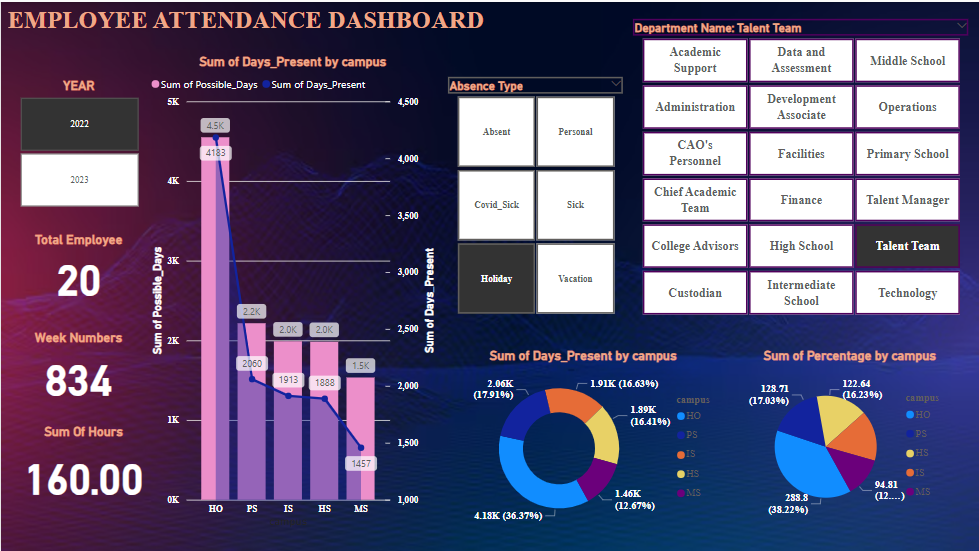

What the dashboard file says about the page in this screenshot:
{"tool":"powerbi","page":{"name":"Attendance dashboard","canvas":[1280,720],"ordinal":0},"visuals":[{"type":"textbox","box":[4.1,0,810.7,53.7],"z":0},{"type":"card","title":"Week Numbers","fields":{"Values":["Sum(Attendance Data Aug - Jan.Week Number)"]},"box":[19.3,429.4,163.8,99.1],"z":1000},{"type":"card","title":"Total Employee","fields":{"Values":["CountNonNull(Attendance Data Aug - Jan.Employee ID)"]},"box":[13.8,301.4,174.8,95],"z":2000},{"type":"slicer","title":"DEPARTMENT NAME","fields":{"Values":["Attendance Data Aug - Jan.Department Name"]},"box":[814.8,16.5,465.2,399.1],"z":3000},{"type":"slicer","fields":{"Values":["Attendance Data Aug - Jan.Absence Type"]},"box":[572.6,93.6,254.6,322.1],"z":4000},{"type":"card","title":"Sum Of Hours","fields":{"Values":["Sum(Attendance Data Aug - Jan.Hours)"]},"box":[13.8,551.9,187.2,111.5],"z":5000},{"type":"slicer","title":"YEAR","fields":{"Values":["Attendance Data Aug - Jan.Date - Year"]},"box":[0,99.1,203.7,174.8],"z":6000},{"type":"pieChart","fields":{"Category":["Individual Attendance.campus"],"Y":["Sum(Individual Attendance.Percentage)"]},"box":[970.3,452.8,282.2,239.5],"z":7000},{"type":"donutChart","fields":{"Category":["Individual Attendance.campus"],"Y":["Sum(Individual Attendance.Days_Present)"]},"box":[572.6,452.8,379.9,243.6],"z":8000},{"type":"lineStackedColumnComboChart","title":"Sum of Days_Present by campus","fields":{"Category":["Individual Attendance.campus"],"Y":["Sum(Individual Attendance.Possible_Days)"],"Y2":["Sum(Individual Attendance.Days_Present)"]},"box":[191.3,67.4,381.2,624.9],"z":9000}]}

Visuals, with their boxes in screenshot pixels (x1, y1, x2, y2), scaled from the page's 1280x720 canvas onto the 979x551 screenshot:
textbox: <bbox>3, 0, 623, 41</bbox>
"Week Numbers" card: <bbox>15, 329, 140, 404</bbox>
"Total Employee" card: <bbox>11, 231, 144, 303</bbox>
"DEPARTMENT NAME" slicer: <bbox>623, 13, 978, 318</bbox>
slicer - Attendance Data Aug - Jan.Absence Type: <bbox>438, 72, 633, 318</bbox>
"Sum Of Hours" card: <bbox>11, 422, 154, 508</bbox>
"YEAR" slicer: <bbox>0, 76, 156, 210</bbox>
pieChart - Individual Attendance.campus x Sum(Individual Attendance.Percentage): <bbox>742, 347, 958, 530</bbox>
donutChart - Individual Attendance.campus x Sum(Individual Attendance.Days_Present): <bbox>438, 347, 729, 533</bbox>
"Sum of Days_Present by campus" lineStackedColumnComboChart: <bbox>146, 52, 438, 530</bbox>
